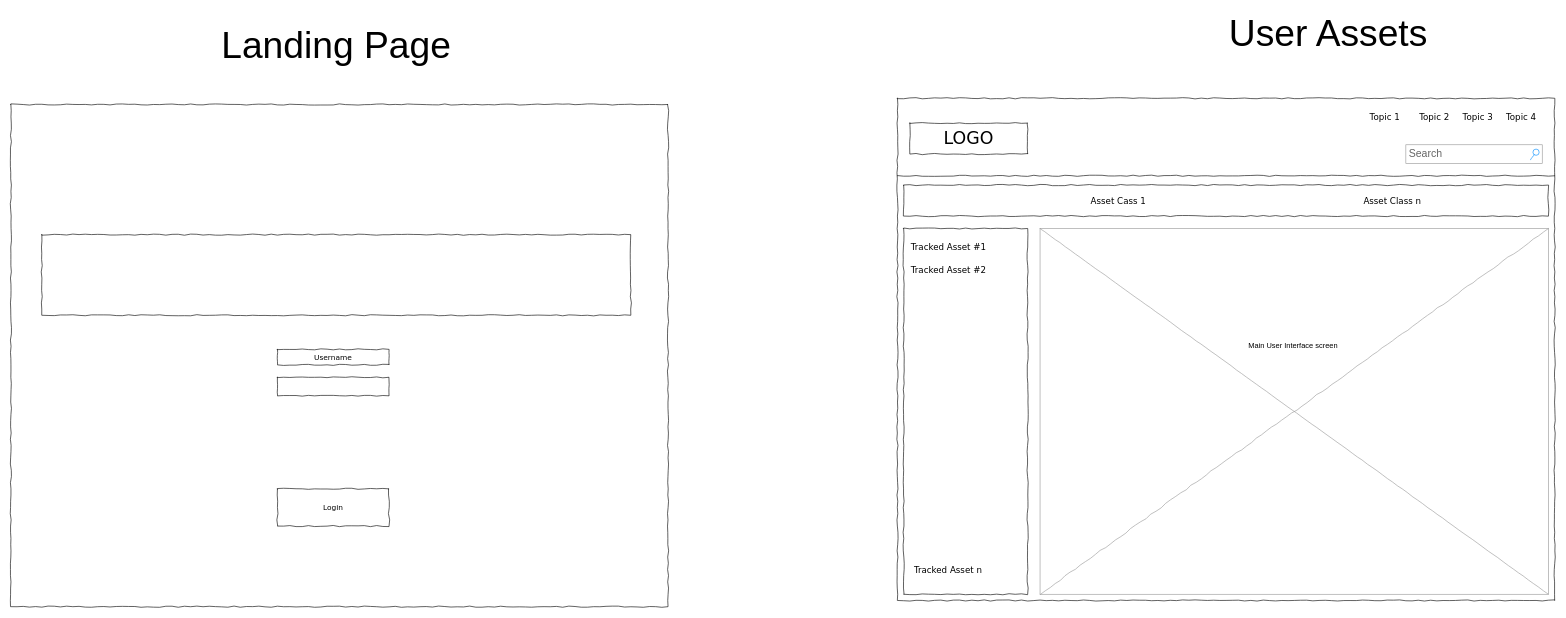
The diagram is 1566 pixels wide and 618 high, and some of its shapes have lost their labels. The shapes that lost their labels are listed below. From the top down, each one's centre as x and y in pixels, then its label:
the point at 336,274: Logo Here
the point at 333,386: Password
